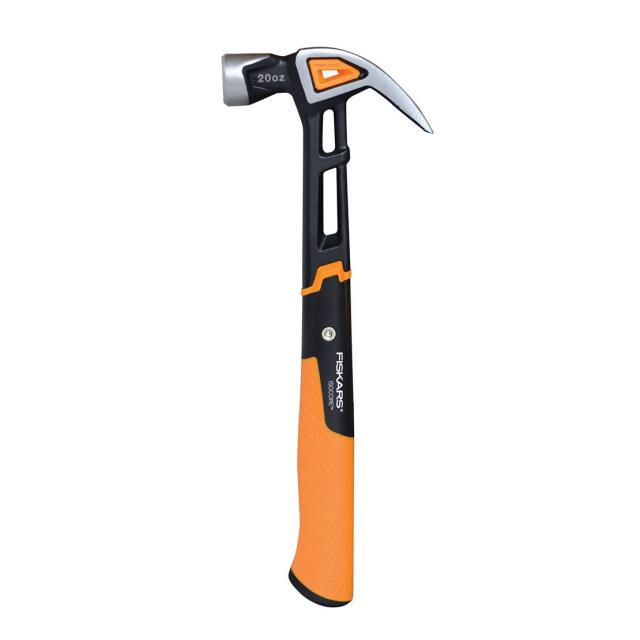hammer: (214, 35, 436, 618)
